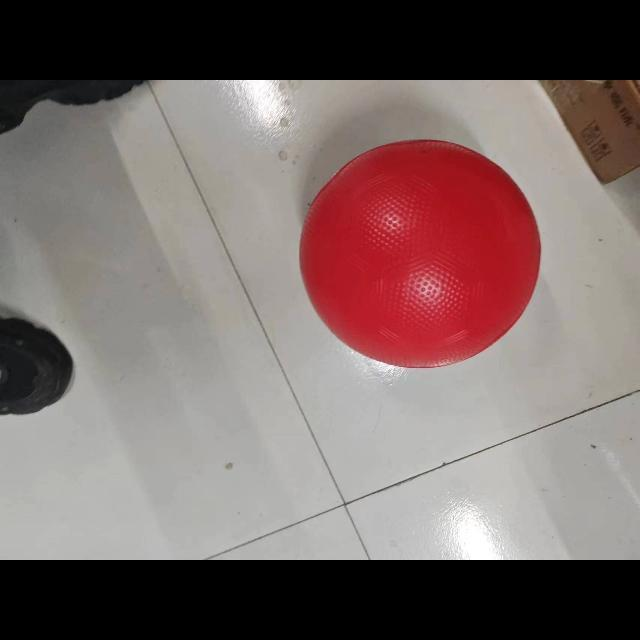R: (290, 134, 548, 368)
